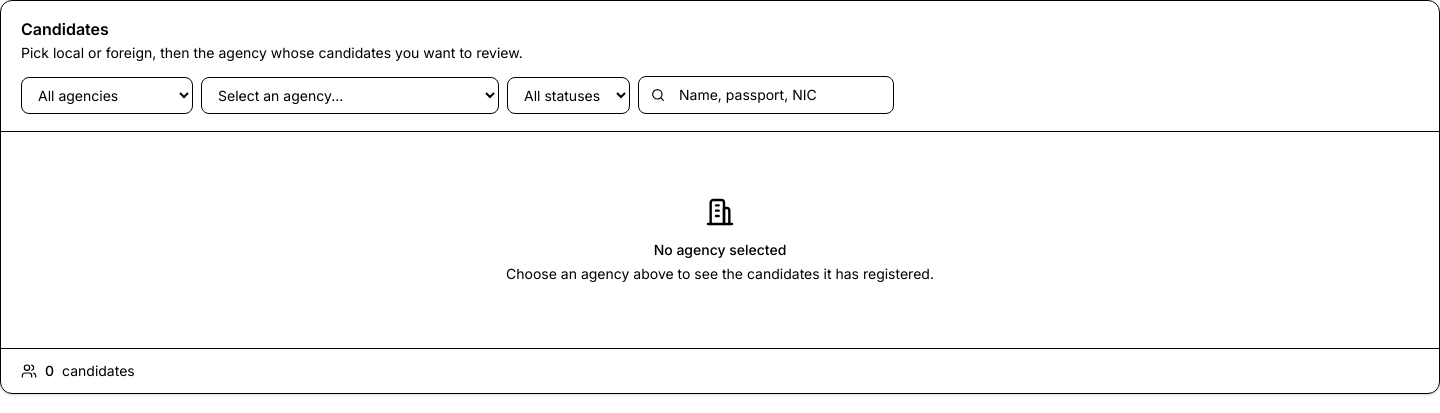
Scenario: candidates by agency › drops a chosen agency that is not of the kind now shown
This screenshot has width=1440, height=413.
Step 1. Select "Skyline Marketing" in the dropdown named "Agency" → (350, 95), box [201, 76, 499, 114]
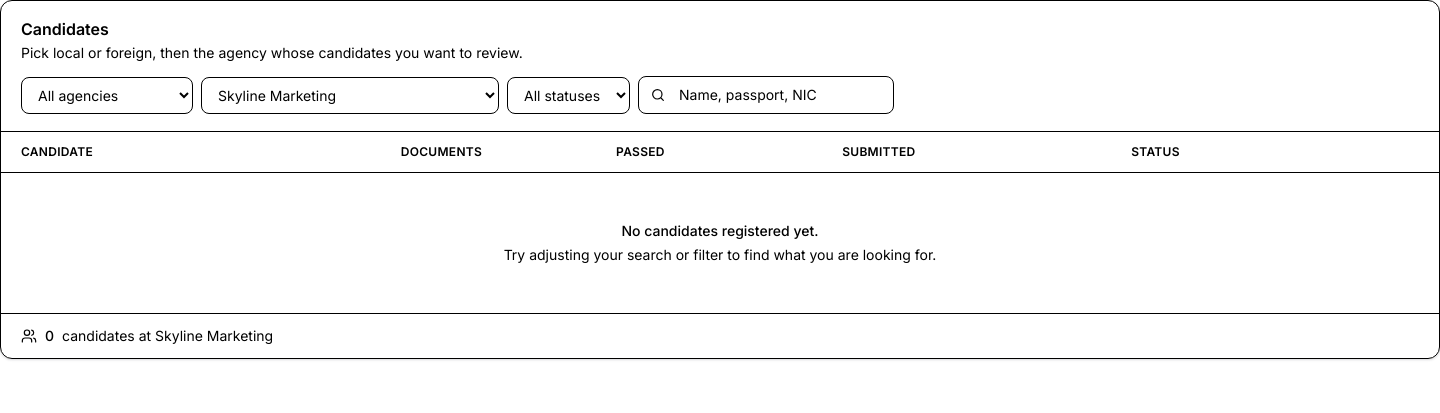
Step 2. Select "Foreign companies" in the dropdown named "agency type" → (107, 95), box [21, 76, 193, 114]
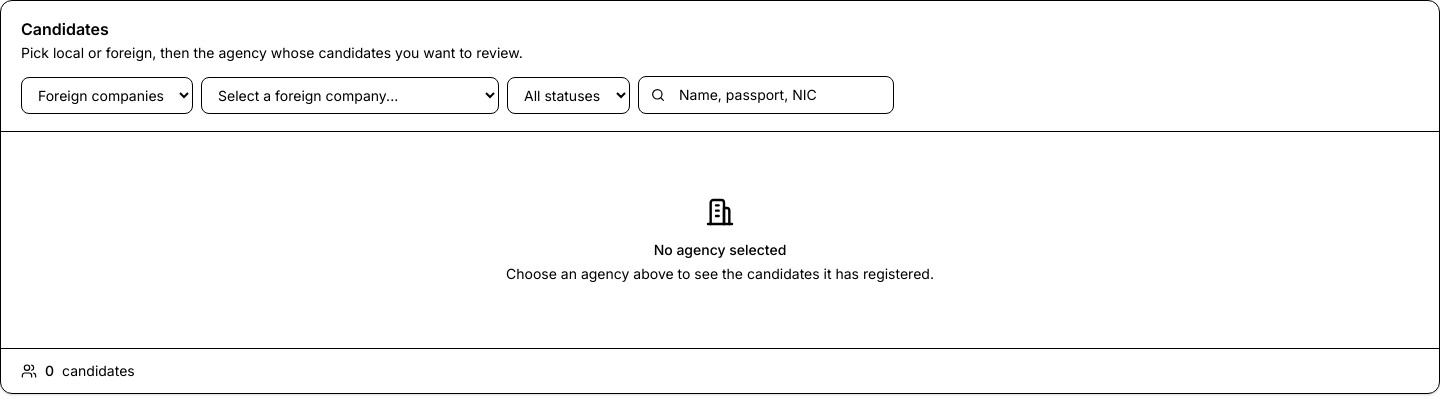
expect the text "No agency selected" is shown: met, box [654, 241, 786, 258]
